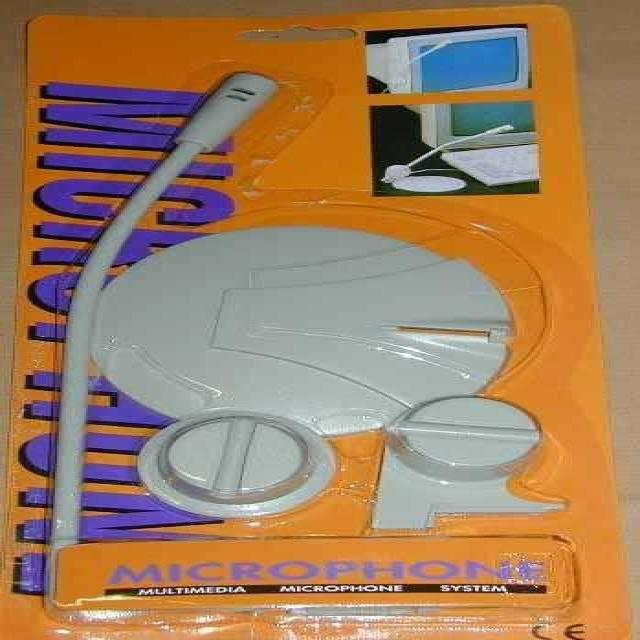microphone: (174, 70, 278, 152)
